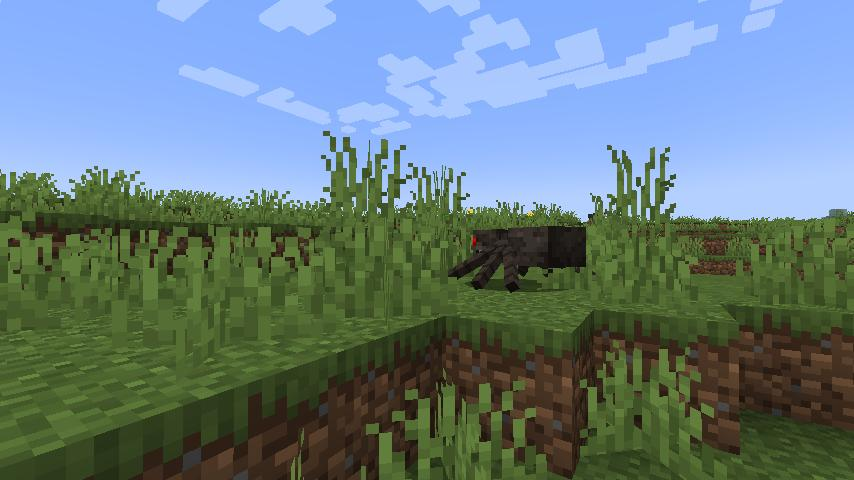spider: (446, 225, 588, 294)
